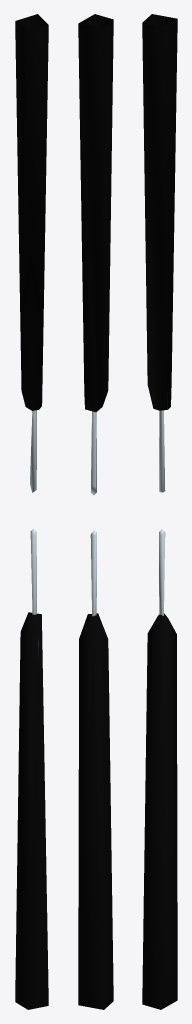
The model's file is rotor_column.obj.
3 views of the same model, side by side, from view 1: azimuth 30°, elevation 25°; view 2: azimuth 150°, elevation 25°; view 3: azimuth 330°, elevation 25° (orthographic).
Parts seen in each view (by area): view 1: 6.Rotor_Centre; view 2: 6.Rotor_Centre; view 3: 6.Rotor_Centre.
Boxes of the visible parts, <box> form: 6.Rotor_Centre: <box>15,14,48,1009</box>; 6.Rotor_Centre: <box>78,14,113,1009</box>; 6.Rotor_Centre: <box>142,14,177,1009</box>.
Bounding box in the file's own units: 0.0747 × 2.91 × 0.0846.
Materials: 1 (1 with a texture image).
